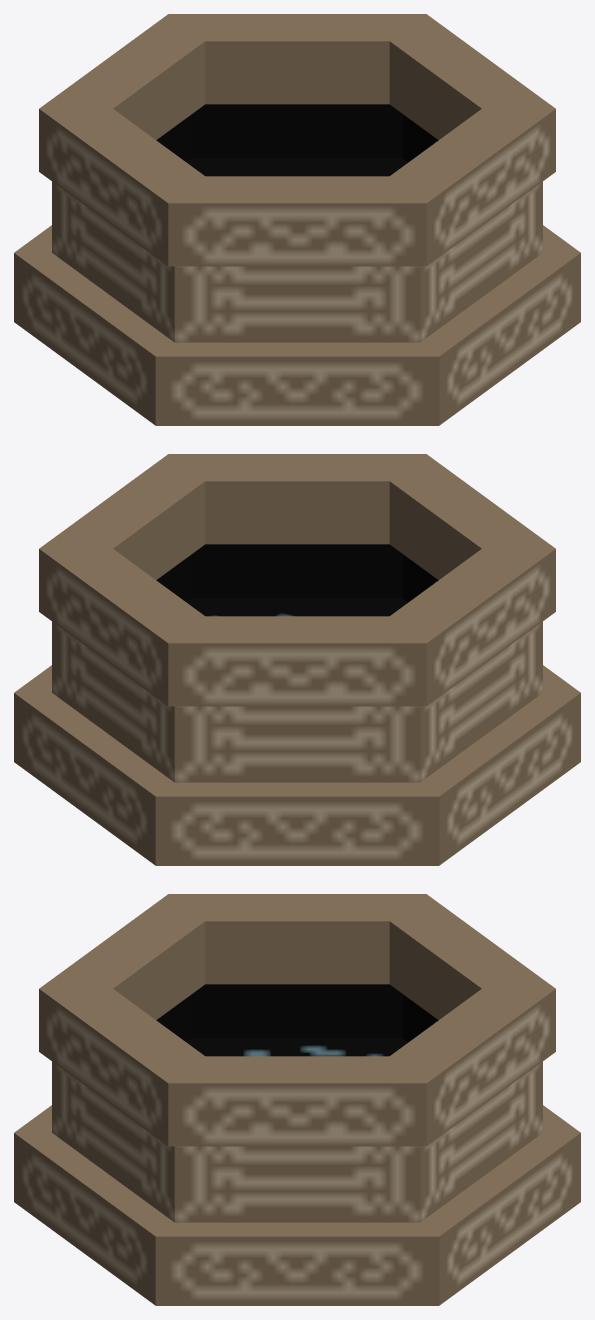
Rendered from Well.fbx.
The picture shows the model from 3 angles, top to bottom: view 1: azimuth 30°, elevation 25°; view 2: azimuth 150°, elevation 25°; view 3: azimuth 270°, elevation 25°; orthographic projection.
Visible parts, largest first — view 1: Well; view 2: Well; view 3: Well.
Part boxes in pixels (x1,y1,x2,y2): Well: (14,14,580,425); Well: (14,454,580,865); Well: (14,894,580,1305).
Size of the model in its own units: 0.8537 by 0.9858 by 0.4092.
1 material, 1 textured.
